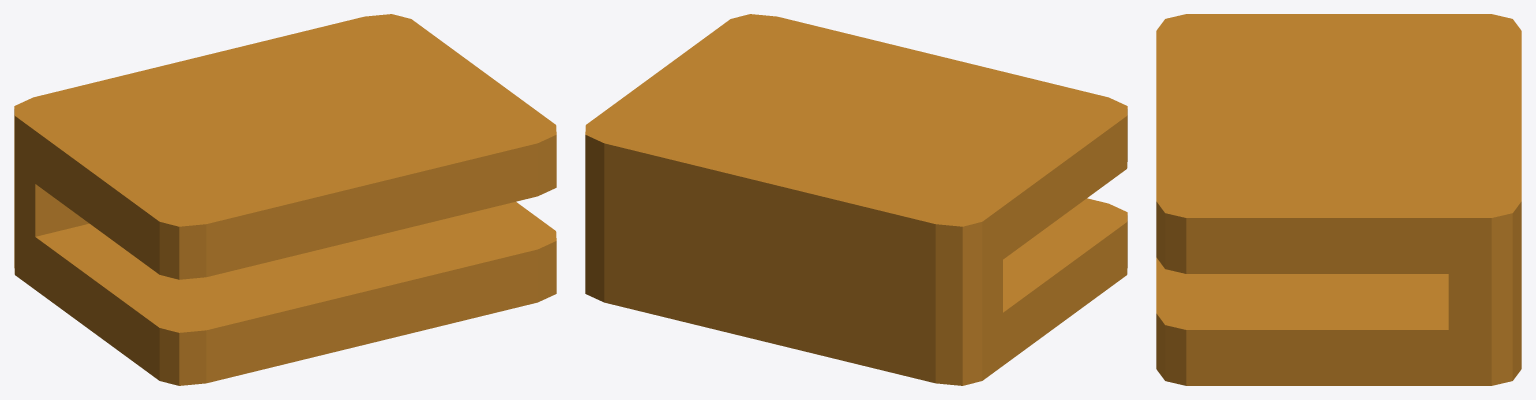
The model's file is Rubber.fbx.
The picture shows the model from 3 angles, left to right: view 1: azimuth 30°, elevation 25°; view 2: azimuth 150°, elevation 25°; view 3: azimuth 270°, elevation 25°; orthographic projection. The views are drawn at different scales.
Visible parts, largest first — view 1: Plane; view 2: Plane; view 3: Plane.
Part boxes in pixels (x1=…): Plane: x1=14, y1=14, x2=556, y2=385; Plane: x1=585, y1=14, x2=1127, y2=385; Plane: x1=1156, y1=14, x2=1521, y2=385.
Bounding box in the file's own units: 61.29 × 23.51 × 46.35.
